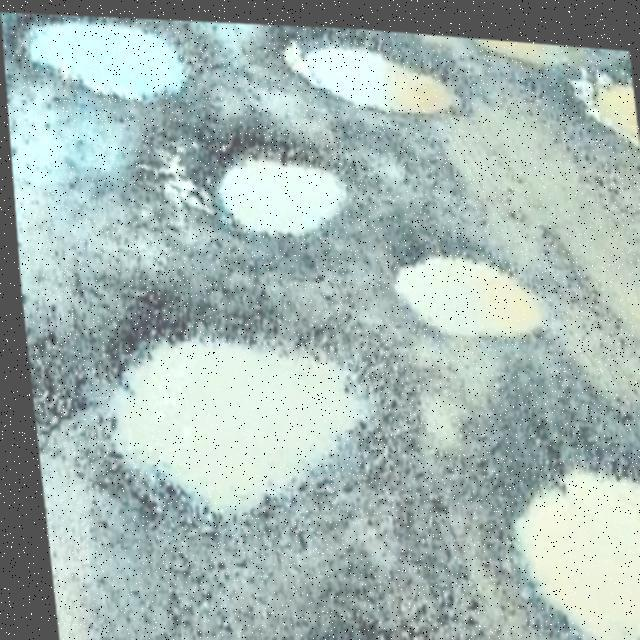pothole: (20, 287, 383, 544), (484, 420, 640, 640), (380, 230, 554, 347), (1, 5, 190, 109), (279, 18, 462, 125), (193, 128, 357, 242), (576, 38, 638, 144), (459, 30, 576, 66)
